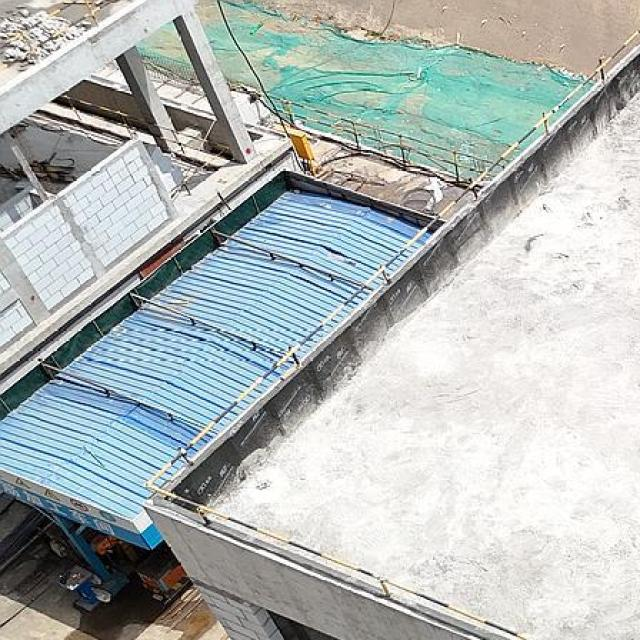edge_guardrail: (143, 23, 640, 640), (240, 85, 506, 182), (46, 95, 231, 196), (0, 0, 117, 69)
